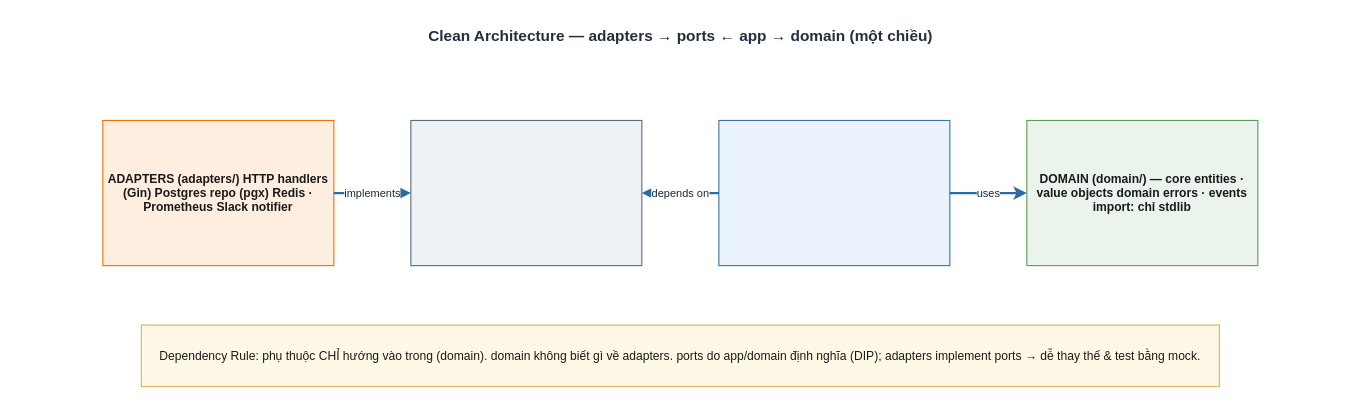
This 1360x418 diagram has some shape labels left out. The centre of each missing label's shape, as x and y in pixels:
APP (app/) — use cases LoginUser FireAlert RotateRefreshToken: (834,192)
PORTS (ports/) — interfaces Repository · Cache Notifier EventPublisher: (526,192)
